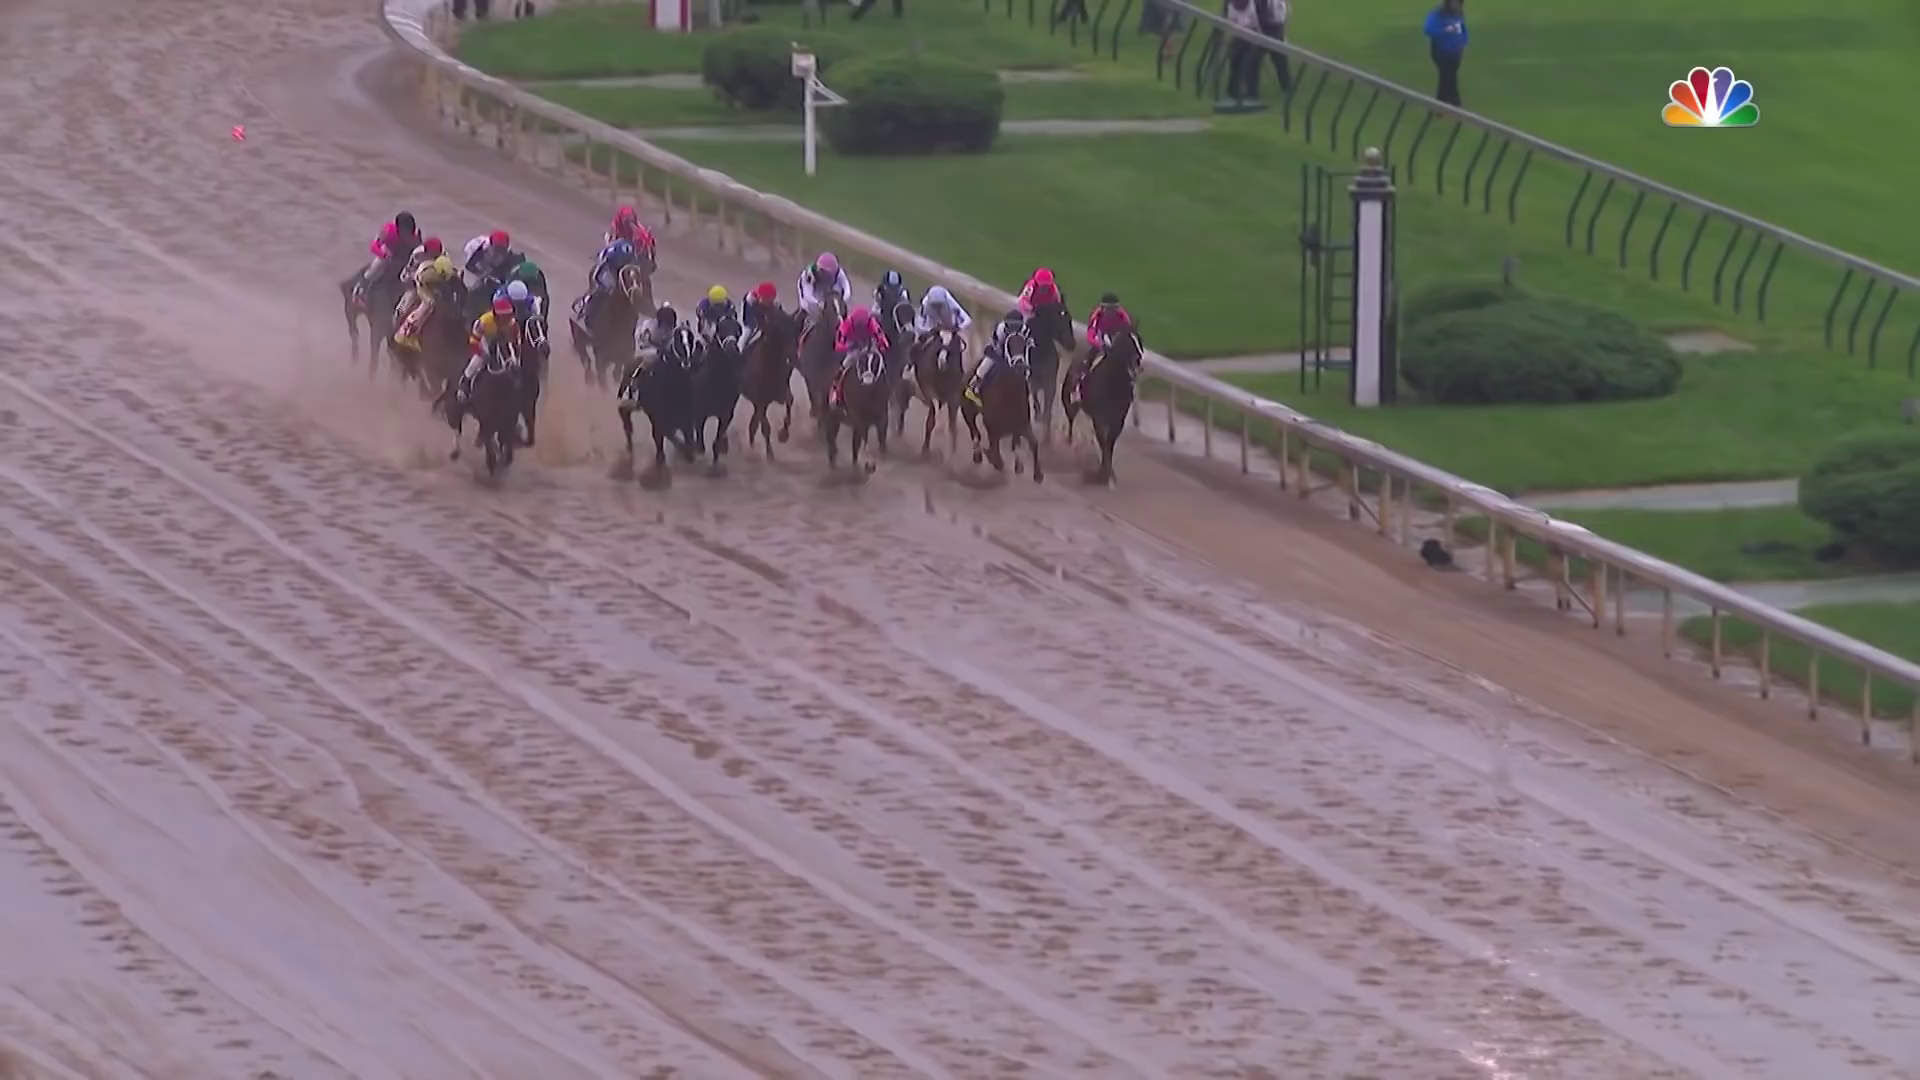jockey: (363, 207, 423, 305), (463, 306, 531, 386), (976, 316, 1035, 406), (1081, 291, 1135, 386), (833, 309, 889, 396), (794, 255, 852, 336), (404, 237, 454, 328), (915, 282, 967, 369), (597, 204, 653, 284), (454, 223, 517, 291), (634, 307, 684, 390), (1015, 262, 1067, 340), (740, 280, 786, 365), (702, 287, 735, 371), (870, 272, 911, 336)
